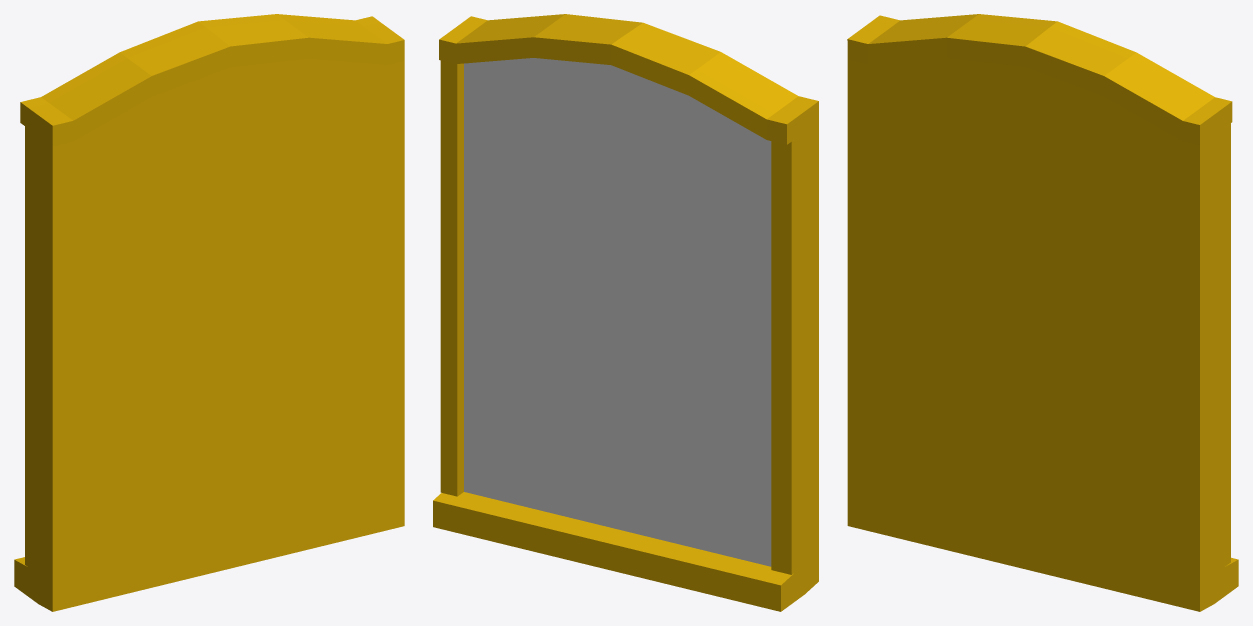
Rendered from Mirror.fbx.
3 renders of one model, left to right at view 1: azimuth 30°, elevation 25°; view 2: azimuth 150°, elevation 25°; view 3: azimuth 330°, elevation 25°, orthographic.
Parts seen in each view (by area): view 1: MirrorFrame; view 2: MirrorGlass, MirrorFrame; view 3: MirrorFrame.
Part boxes in pixels (x1=…): MirrorFrame: x1=14, y1=14, x2=404, y2=611; MirrorGlass: x1=464, y1=58, x2=771, y2=566; MirrorFrame: x1=433, y1=14, x2=818, y2=611; MirrorFrame: x1=847, y1=14, x2=1238, y2=611.
Size of the model in its own units: 336 by 480 by 63.58.
